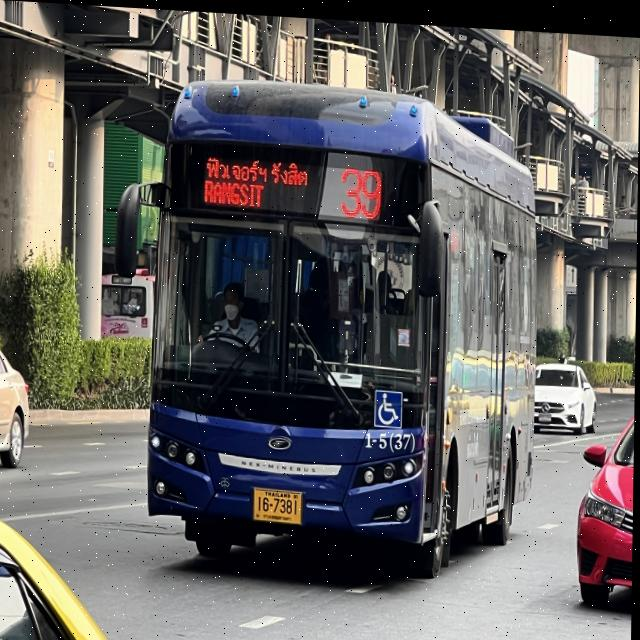Bus-Line-Number: (335, 155, 388, 222)
Destination-Sign-Normal: (201, 145, 321, 219)
TSB-Bus: (141, 56, 544, 595)
